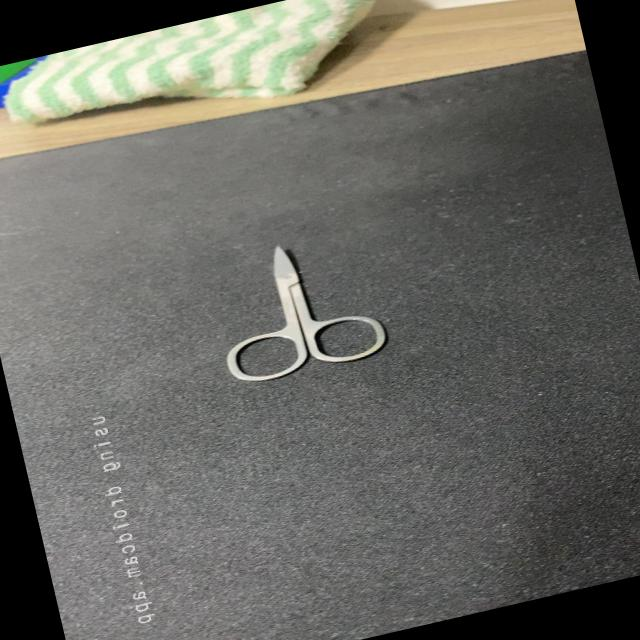scissor: (194, 214, 400, 394)
